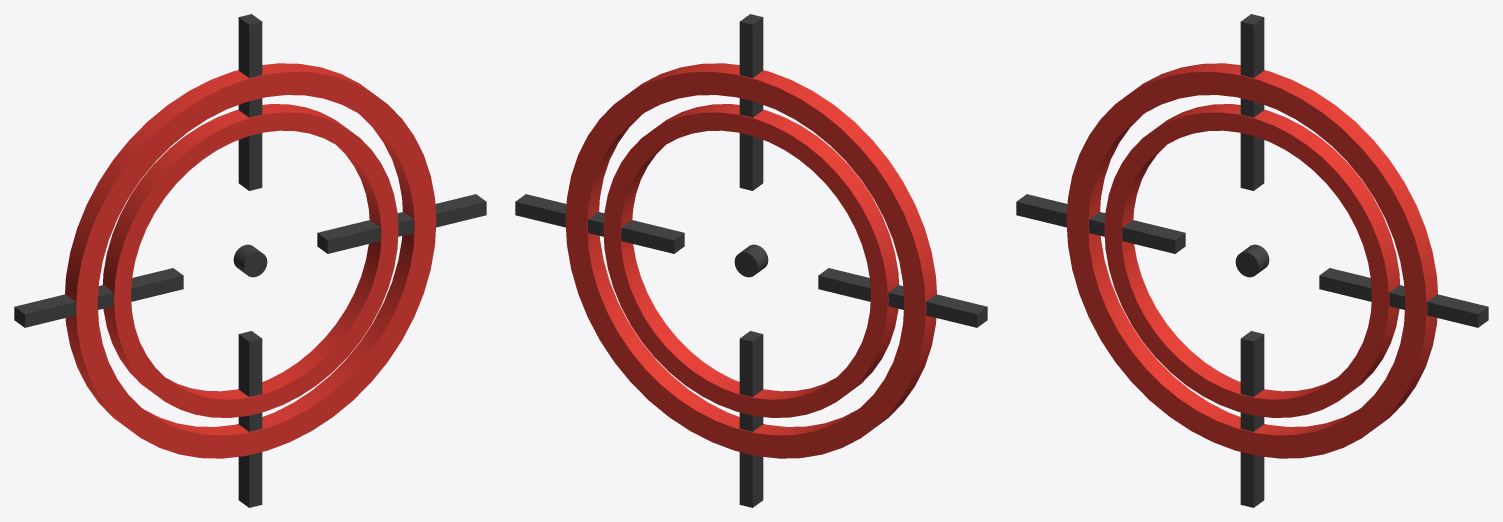
The model's file is target.fbx.
3 renders of one model, left to right at view 1: azimuth 30°, elevation 25°; view 2: azimuth 150°, elevation 25°; view 3: azimuth 330°, elevation 25°, orthographic.
Visible parts, largest first — view 1: target; view 2: target; view 3: target.
Part boxes in pixels (<box>): target: <box>14,14,486,507</box>; target: <box>515,14,987,507</box>; target: <box>1016,14,1488,507</box>.
Size of the model in its own units: 39.43 by 39.43 by 1.71.
